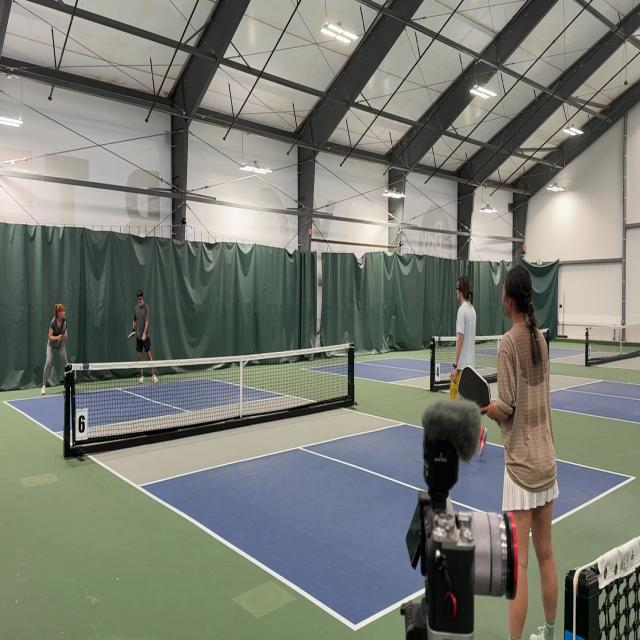ball: (142, 334, 146, 341)
